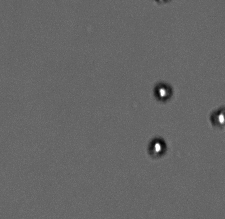Living Cell: (148, 136, 166, 157), (154, 82, 172, 102)
